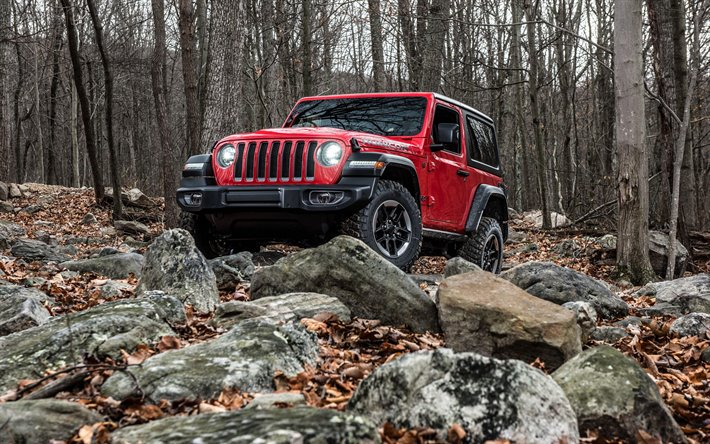Vehicle: (166, 86, 513, 252)
